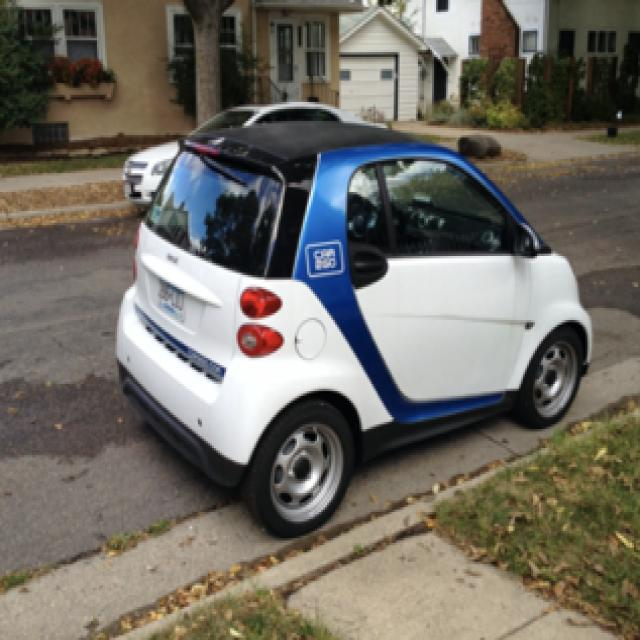license_plate: (153, 275, 188, 329)
